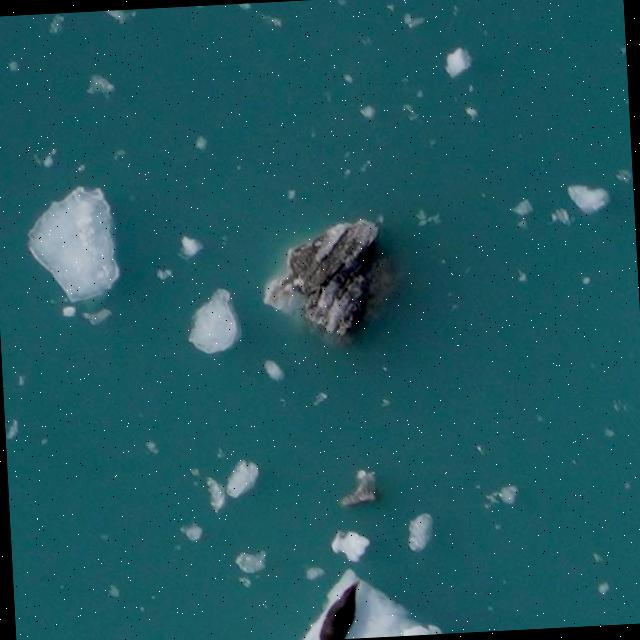seal: (318, 582, 359, 640)
